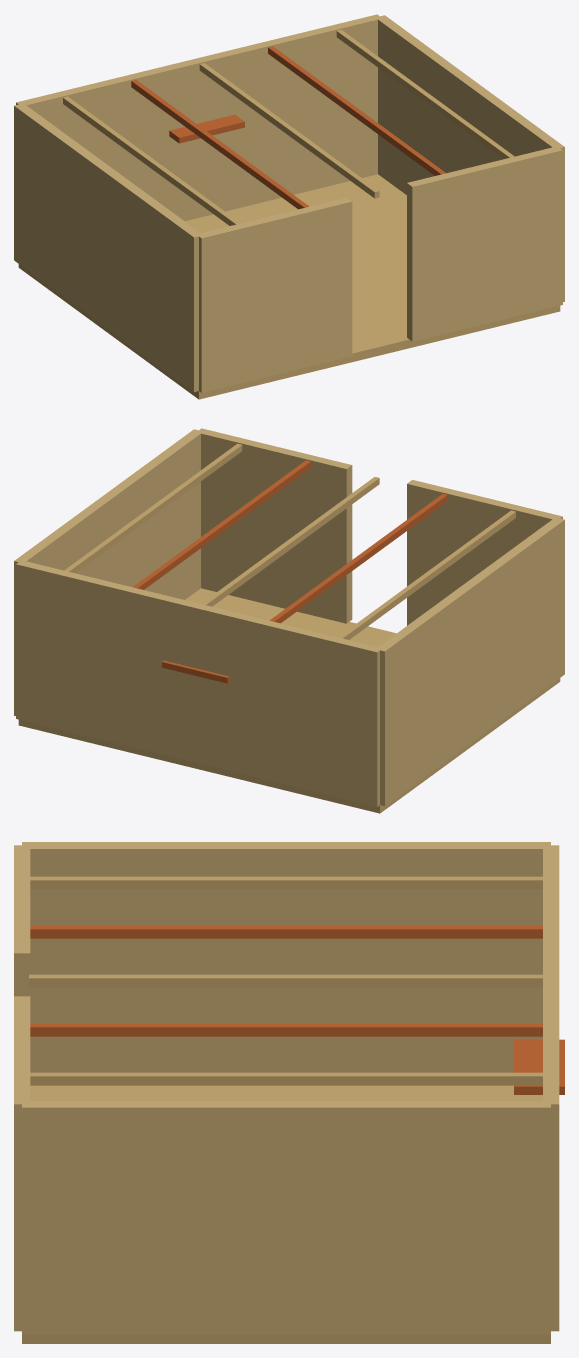
The model's file is ravine_forge.glb.
3 views of the same model, one above another, from view 1: azimuth 30°, elevation 25°; view 2: azimuth 150°, elevation 25°; view 3: azimuth 270°, elevation 25° (orthographic). The views are drawn at different scales.
Visible parts, largest first — view 1: wall_north, wall_west, wall_south_right, wall_south_left, wall_east, floor, ceiling_beam_0, ceiling_beam_2, ceiling_beam_-1, ceiling_beam_1, ceiling_beam_-2, purpose_canyon_forge; view 2: wall_north, wall_west, wall_south_right, wall_east, wall_south_left, floor, ceiling_beam_0, ceiling_beam_2, ceiling_beam_-1, ceiling_beam_1, ceiling_beam_-2, purpose_canyon_forge; view 3: wall_east, wall_west, floor, ceiling_beam_0, ceiling_beam_-2, ceiling_beam_-1, ceiling_beam_1, ceiling_beam_2, wall_north, wall_south_right, wall_south_left, purpose_canyon_forge.
Boxes of the visible parts, x1,y1,x2,y2 form: wall_north: (16,14,382,221); wall_west: (14,104,203,391); wall_south_right: (407,146,562,341); wall_south_left: (199,197,352,392); wall_east: (377,15,564,301); floor: (18,174,560,399); ceiling_beam_0: (199,63,379,198); ceiling_beam_2: (336,29,514,159); ceiling_beam_-1: (131,80,308,209); ceiling_beam_1: (268,46,445,175); ceiling_beam_-2: (63,96,240,225); purpose_canyon_forge: (169,114,244,143); wall_north: (16,561,382,806); wall_west: (376,517,564,805); wall_south_right: (197,428,352,623); wall_east: (14,429,203,715); wall_south_left: (407,480,562,625); floor: (18,588,560,813); ceiling_beam_0: (201,477,379,606); ceiling_beam_2: (64,443,242,573); ceiling_beam_-1: (270,494,447,623); ceiling_beam_1: (133,460,310,589); ceiling_beam_-2: (338,510,515,639); purpose_canyon_forge: (162,660,229,683); wall_east: (22,1101,550,1334); wall_west: (22,842,550,1072); floor: (22,1085,550,1343); ceiling_beam_0: (29,974,542,987); ceiling_beam_-2: (30,876,542,889); ceiling_beam_-1: (30,925,542,938); ceiling_beam_1: (30,1023,542,1036); ceiling_beam_2: (30,1072,542,1085); wall_north: (543,845,559,1331); wall_south_right: (14,996,30,1331); wall_south_left: (14,845,30,996); purpose_canyon_forge: (514,1039,564,1094).
Size of what is drawn, in the model's own units: 13.55 by 5.7 by 11.88.
